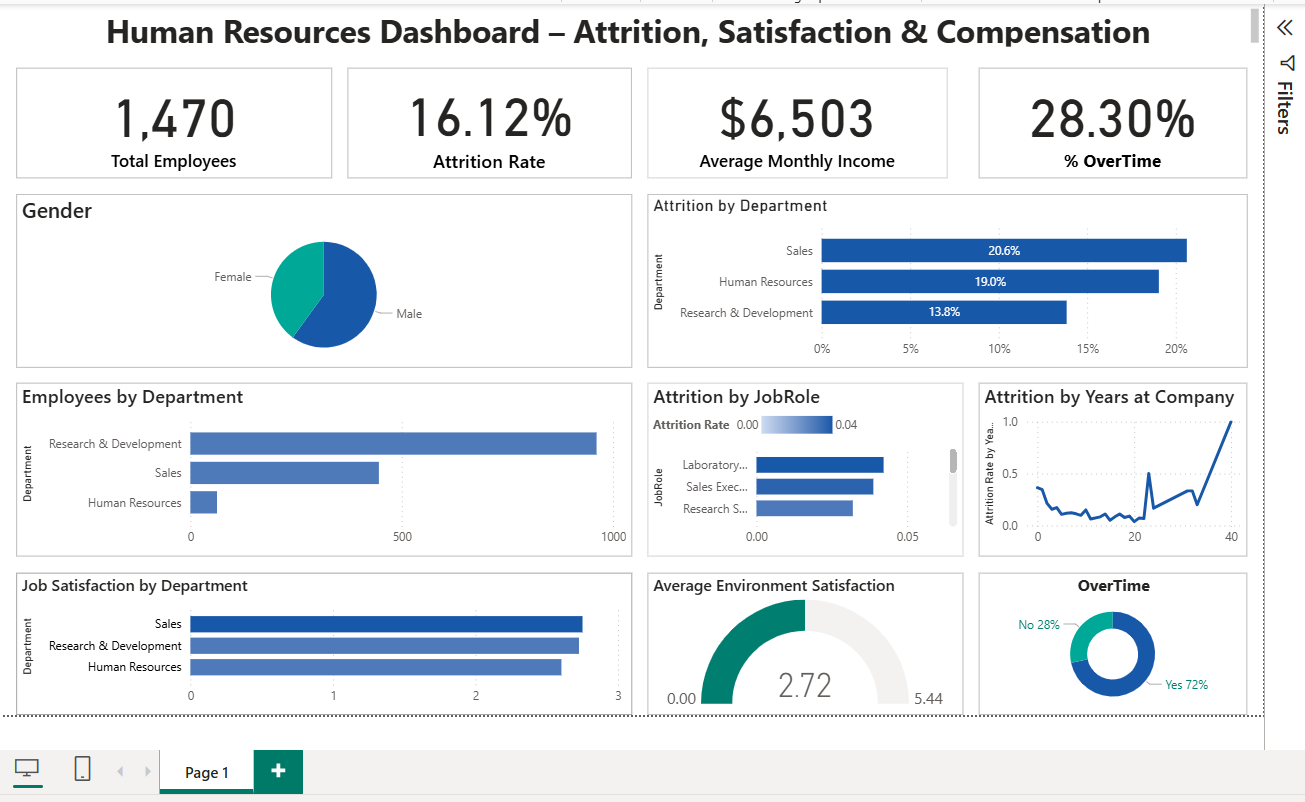

The dashboard page shown, as its layout file describes it:
{"tool":"powerbi","page":{"name":"Page 1","canvas":[1280,720],"ordinal":0},"visuals":[{"type":"textbox","box":[0,0,1280,48],"z":0},{"type":"card","fields":{"Values":["Sum(WA_Fn-UseC_-HR-Employee-Attrition.EmployeeCount)"]},"box":[16,64,320,112],"z":1000},{"type":"card","fields":{"Values":["Avg(WA_Fn-UseC_-HR-Employee-Attrition.MonthlyIncome)"]},"box":[656,64,304,112],"z":1001},{"type":"card","fields":{"Values":["HR.% OverTime"]},"box":[992,64,272,112],"z":1002},{"type":"card","fields":{"Values":["HR.Attrition Rate"]},"box":[352,64,288,112],"z":1003},{"type":"pieChart","title":"Gender","fields":{"Category":["HR.Gender"],"Y":["CountNonNull(HR.Gender)"]},"box":[16,192,624,176],"z":1004},{"type":"barChart","title":"Attrition by Department","fields":{"Category":["HR.Department"],"Y":["HR.Attrition Rate by Department"]},"box":[656,192,608,176],"z":1005},{"type":"barChart","title":"Attrition by JobRole","fields":{"Y":["HR.Attrition Rate"],"Category":["HR.JobRole"]},"box":[656,384,320,176],"z":1006},{"type":"lineChart","title":"Attrition by Years at Company","fields":{"Y":["HR.Attrition Rate by Years"],"Category":["HR.YearsAtCompany"]},"box":[992,384,272,176],"z":1007},{"type":"barChart","fields":{"Category":["HR.Department"],"Y":["HR.Employees"]},"box":[16,384,624,176],"z":1008},{"type":"clusteredBarChart","title":"Job Satisfaction by Department","fields":{"Category":["HR.Department"],"Y":["HR.Average Job Satisfaction"]},"box":[16,576,624,144],"z":1009},{"type":"gauge","fields":{"Y":["HR.Average Environment Satisfaction"]},"box":[656,576,320,144],"z":1010},{"type":"donutChart","title":"OverTime","fields":{"Y":["HR.% OverTime"],"Category":["HR.OverTime"]},"box":[992,576,272,144],"z":1011}]}

Visuals, with their boxes on the page's 1280x720 design canvas (x1, y1, x2, y2). These are canvas units, not pixel positions in the 1305x802 screenshot, which may show the page scaled, cropped or inside an application window:
textbox: 0,0,1280,48
card - Sum(WA_Fn-UseC_-HR-Employee-Attrition.EmployeeCount): 16,64,336,176
card - Avg(WA_Fn-UseC_-HR-Employee-Attrition.MonthlyIncome): 656,64,960,176
card - HR.% OverTime: 992,64,1264,176
card - HR.Attrition Rate: 352,64,640,176
"Gender" pieChart: 16,192,640,368
"Attrition by Department" barChart: 656,192,1264,368
"Attrition by JobRole" barChart: 656,384,976,560
"Attrition by Years at Company" lineChart: 992,384,1264,560
barChart - HR.Department x HR.Employees: 16,384,640,560
"Job Satisfaction by Department" clusteredBarChart: 16,576,640,720
gauge - HR.Average Environment Satisfaction: 656,576,976,720
"OverTime" donutChart: 992,576,1264,720
